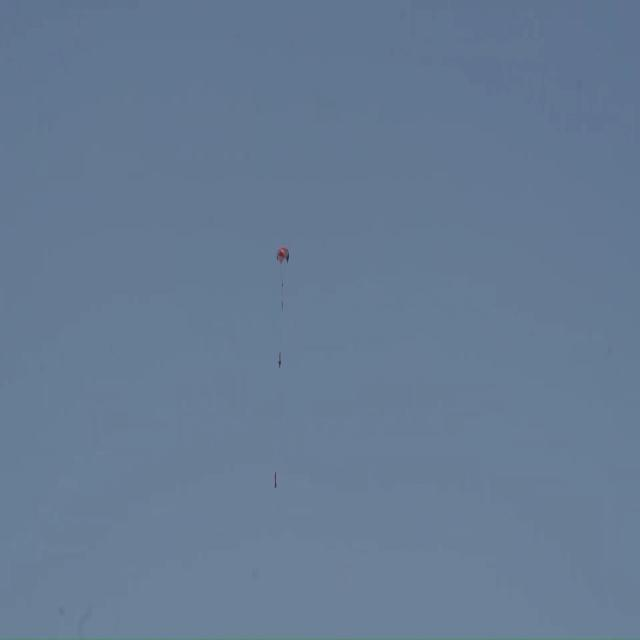Rocket: (274, 472, 277, 488)
